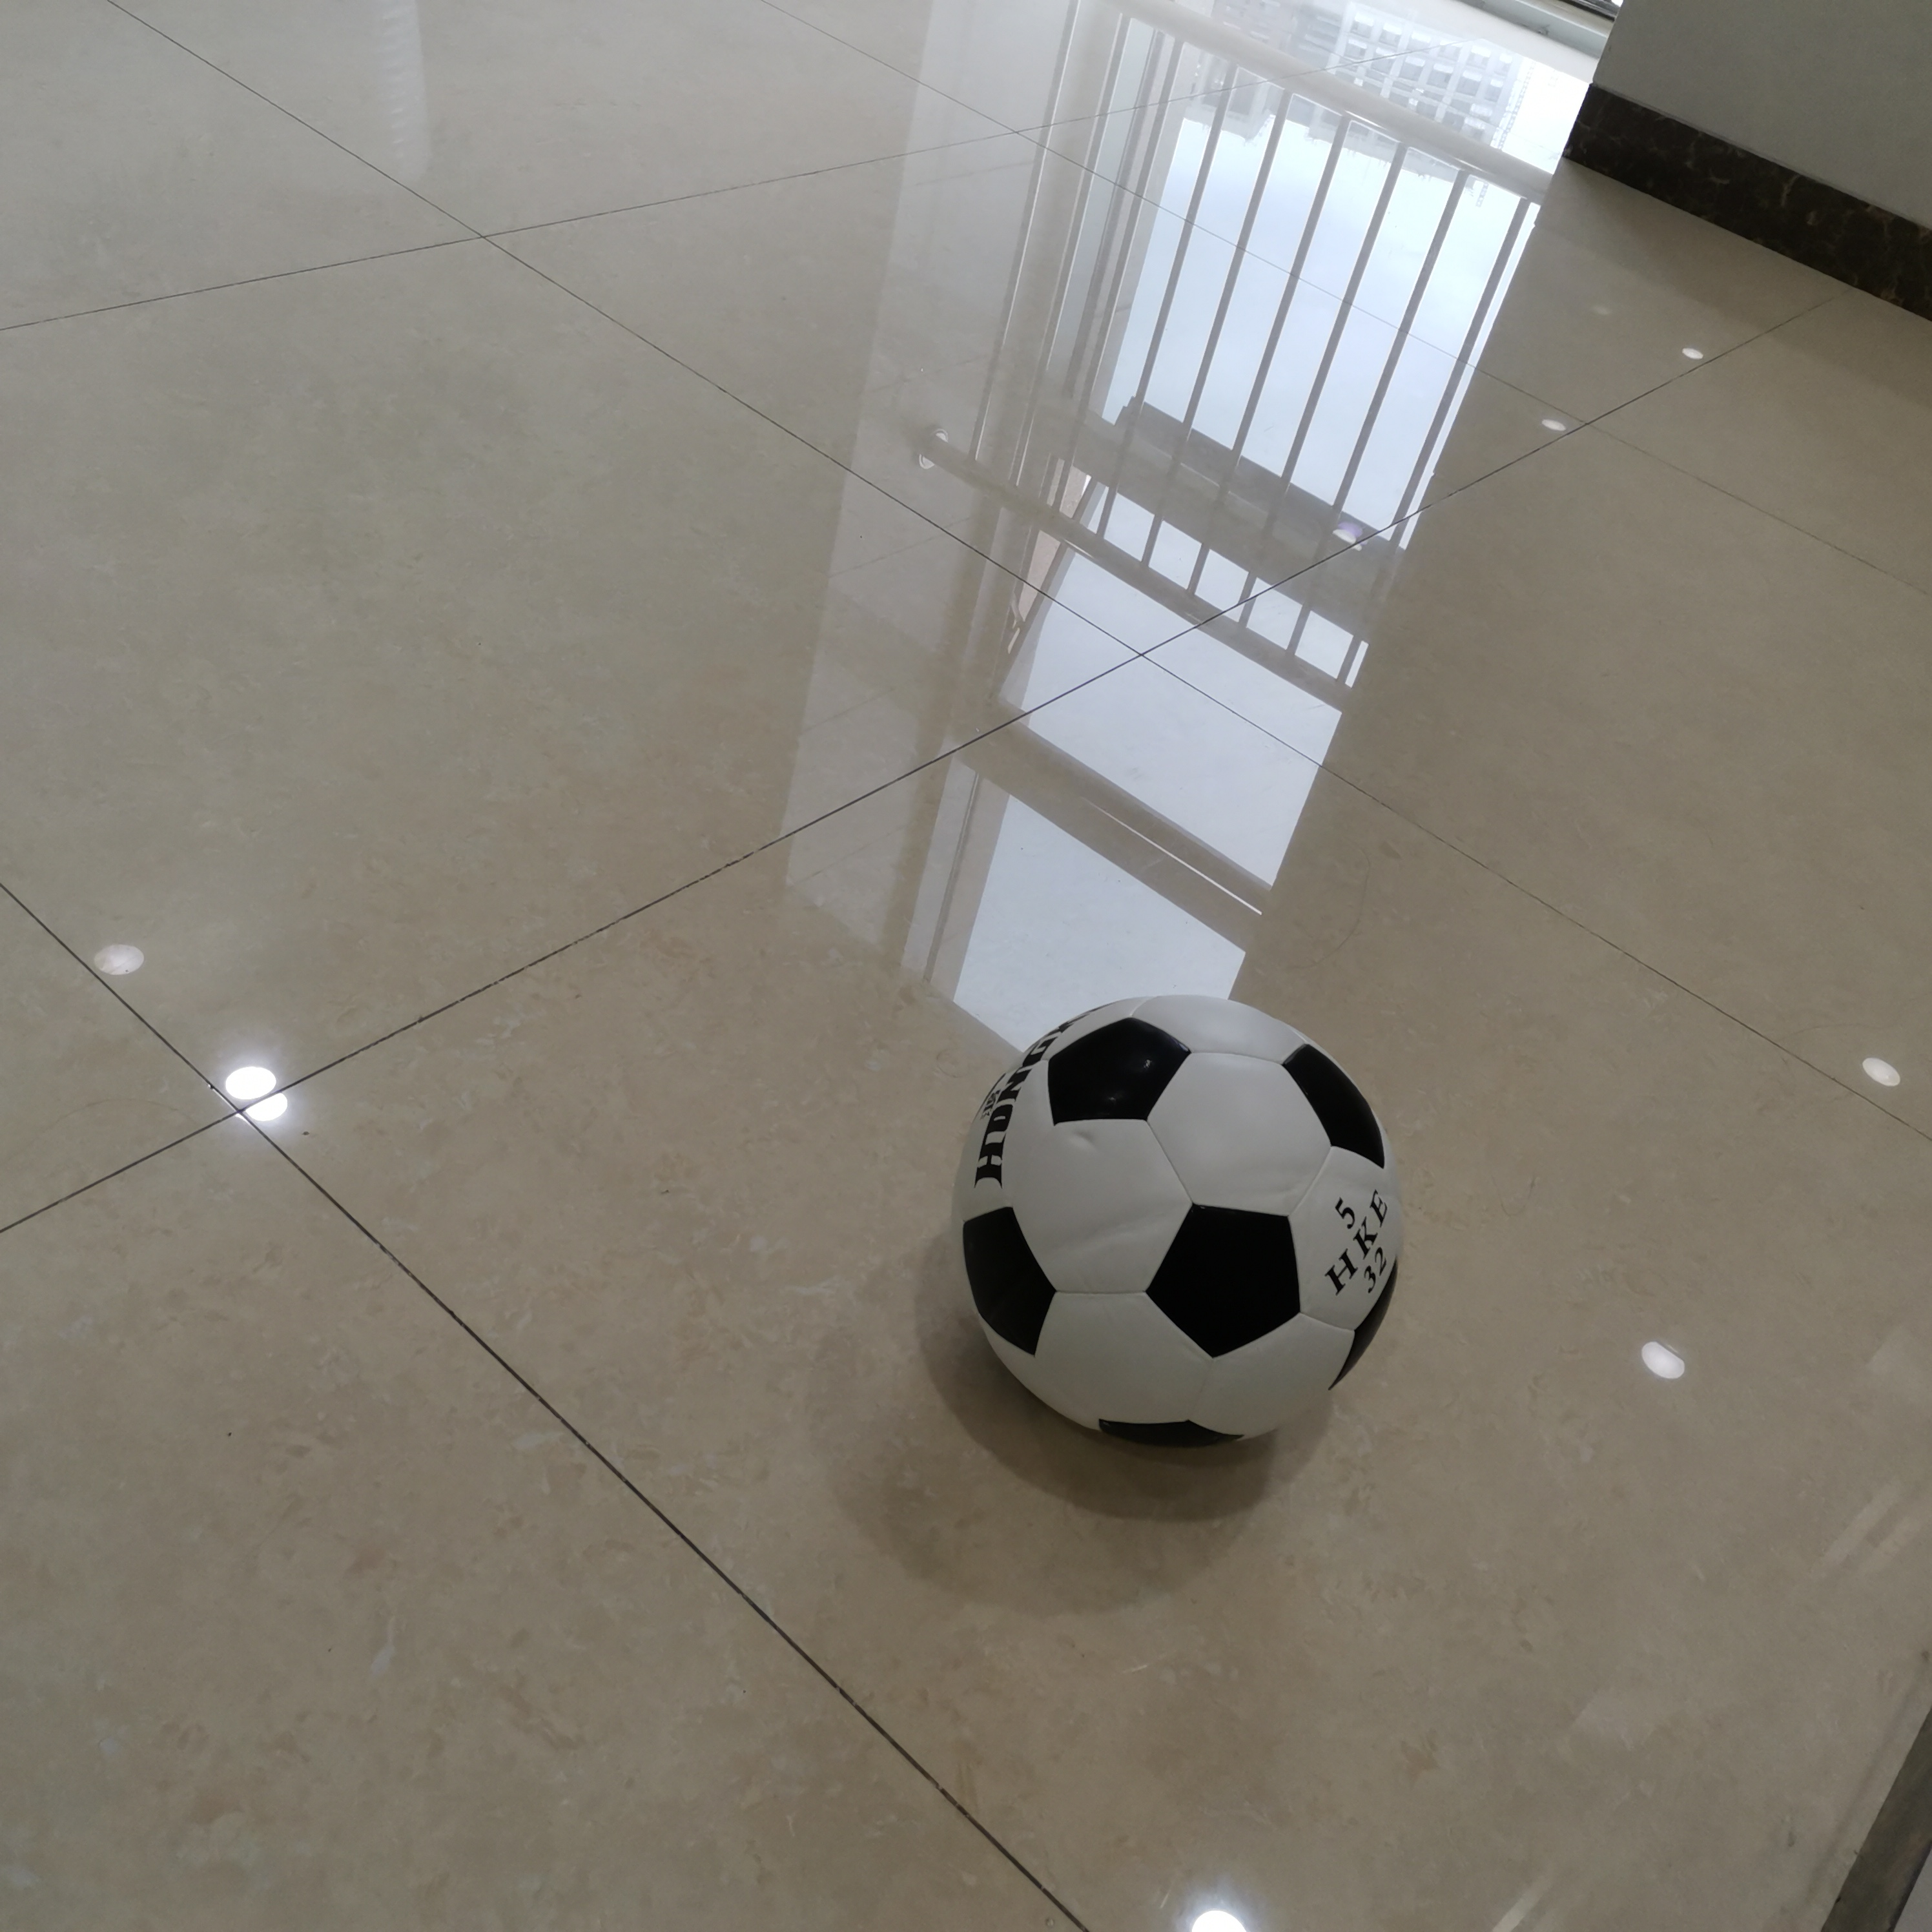football: (955, 998, 1399, 1444)
